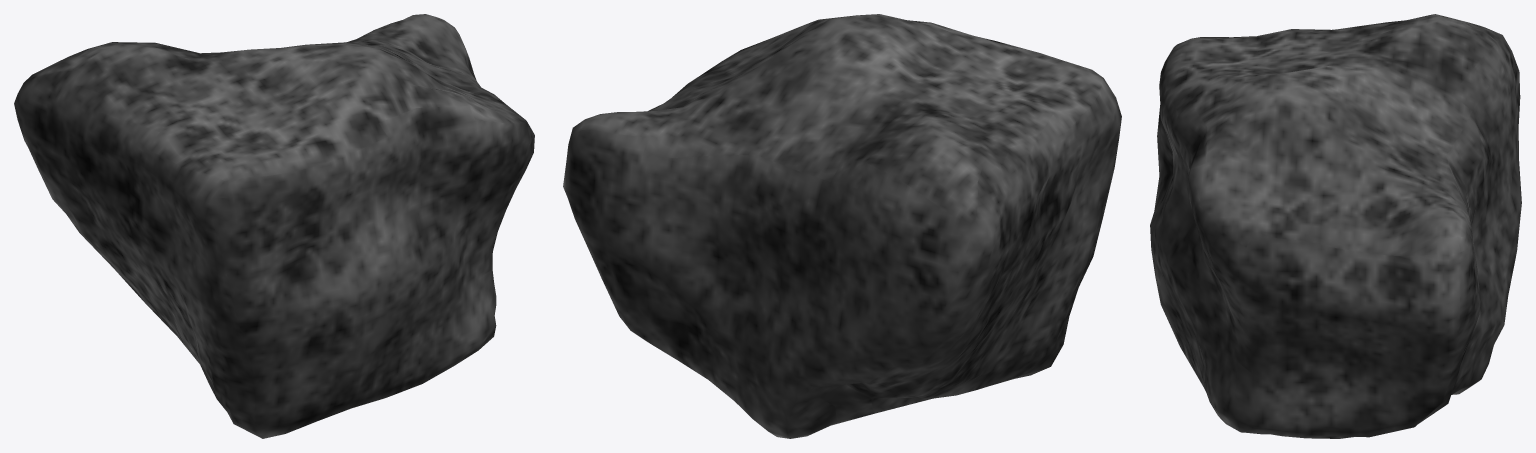
Rendered from asteroid1.glb.
3 renders of one model, left to right at view 1: azimuth 30°, elevation 25°; view 2: azimuth 150°, elevation 25°; view 3: azimuth 270°, elevation 25°, orthographic. The views are drawn at different scales.
Visible parts, largest first — view 1: Asteroid_no_10; view 2: Asteroid_no_10; view 3: Asteroid_no_10.
Part boxes in pixels (x1,y1,x2,y2): Asteroid_no_10: (14,14,534,438); Asteroid_no_10: (563,14,1121,438); Asteroid_no_10: (1150,14,1521,438).
Size of the model in its own units: 4.46 by 3.28 by 3.43.
Materials: 1 (1 with a texture image).
